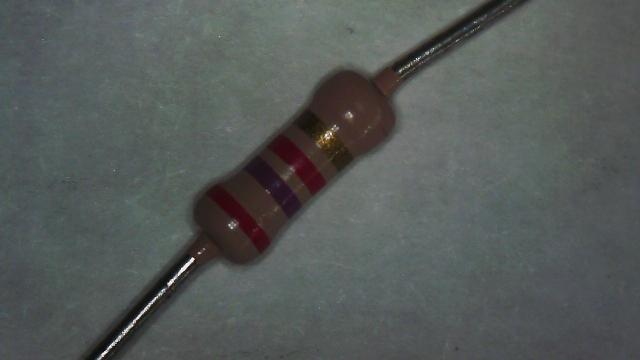gold: (296, 112, 351, 168)
red: (207, 185, 270, 251), (268, 134, 325, 192)
resistor: (152, 45, 434, 304)
violet: (244, 156, 300, 216)
